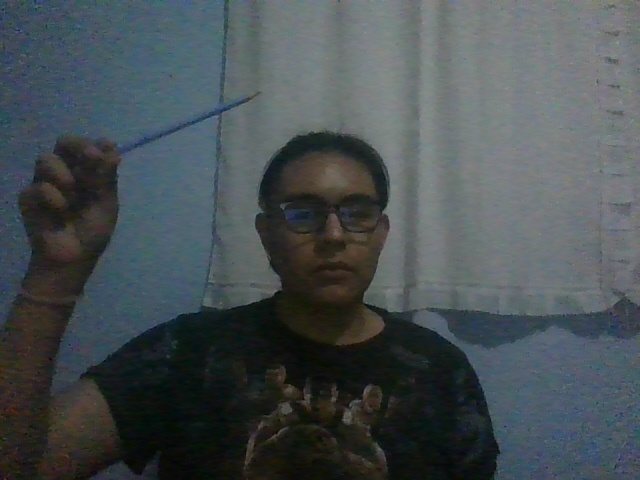lapiz: (116, 90, 262, 155)
